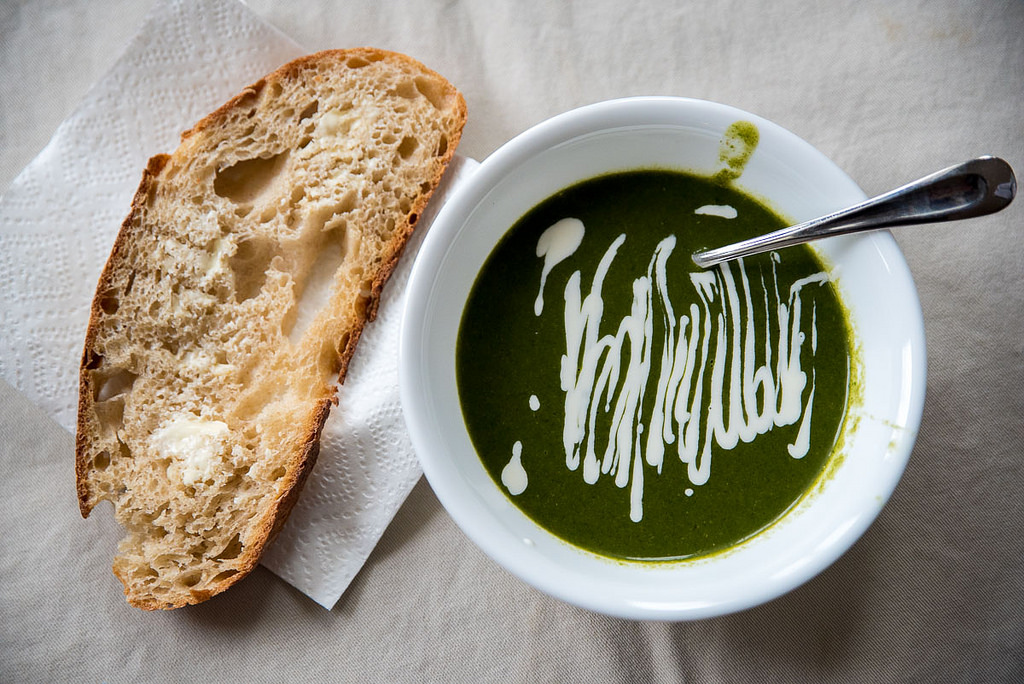slice of bread: (91, 47, 306, 598)
